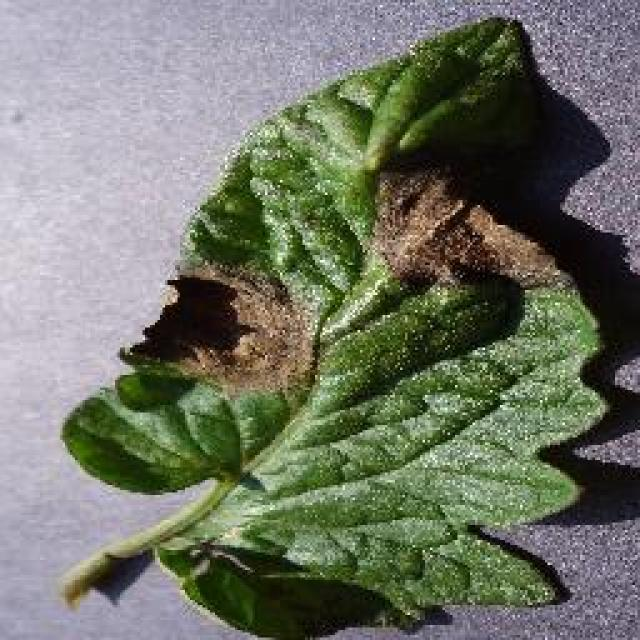Tomato Late Blight: (137, 121, 553, 412)
